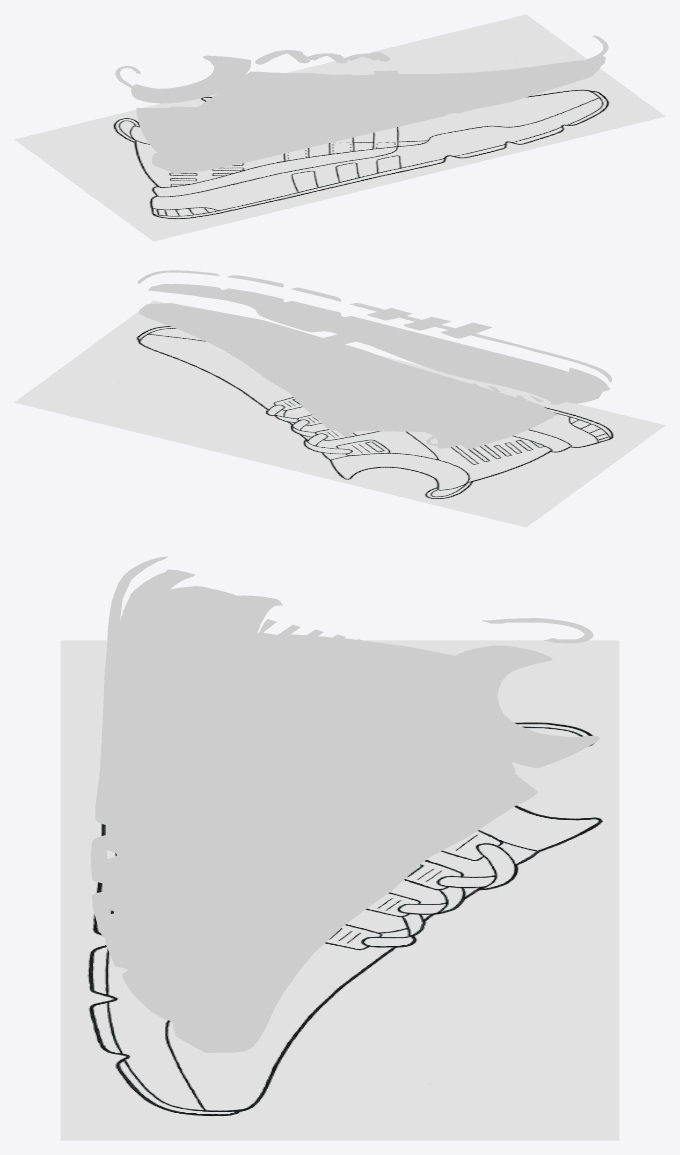
The model's file is Adidas eqt div.FBX.
The picture shows the model from 3 angles, top to bottom: view 1: azimuth 30°, elevation 25°; view 2: azimuth 150°, elevation 25°; view 3: azimuth 270°, elevation 25°; orthographic projection. The views are drawn at different scales.
Parts seen in each view (by area): view 1: Plane001, Line016, Line024, Line010, Line025, Line014, Line023, Line007, Line030, Line026, Line013, Line011 (+3 smaller); view 2: Plane001, Line024, Line016, Line010, Line014, Line025, Line023, Line007, Line011, Line030, Line012, Line013 (+3 smaller); view 3: Plane001, Line024, Line016, Line010, Line014, Line025, Line023, Line011, Line007, Line030, Line012, Line013 (+7 smaller).
Part boxes in pixels (bbox=[...]): Plane001: bbox=[14, 14, 665, 241]; Line016: bbox=[152, 55, 605, 173]; Line024: bbox=[198, 60, 600, 114]; Line010: bbox=[136, 107, 325, 152]; Line025: bbox=[131, 55, 251, 103]; Line014: bbox=[154, 101, 378, 149]; Line023: bbox=[155, 35, 608, 162]; Line007: bbox=[170, 106, 244, 139]; Line030: bbox=[255, 50, 390, 64]; Line026: bbox=[235, 73, 276, 90]; Line013: bbox=[373, 70, 398, 97]; Line011: bbox=[285, 84, 312, 114]; Plane001: bbox=[14, 300, 665, 527]; Line024: bbox=[138, 303, 553, 431]; Line016: bbox=[148, 283, 602, 403]; Line010: bbox=[331, 345, 557, 449]; Line014: bbox=[357, 335, 570, 404]; Line025: bbox=[330, 411, 468, 448]; Line023: bbox=[137, 270, 611, 382]; Line007: bbox=[438, 383, 543, 419]; Line011: bbox=[344, 371, 434, 395]; Line030: bbox=[266, 355, 351, 404]; Line012: bbox=[324, 356, 398, 379]; Line013: bbox=[300, 331, 366, 352]; Plane001: bbox=[60, 640, 619, 1140]; Line024: bbox=[166, 706, 538, 1052]; Line016: bbox=[102, 586, 236, 1024]; Line010: bbox=[192, 632, 454, 864]; Line014: bbox=[184, 595, 282, 819]; Line025: bbox=[430, 645, 599, 768]; Line023: bbox=[90, 556, 235, 1003]; Line011: bbox=[250, 739, 410, 796]; Line007: bbox=[259, 619, 411, 705]; Line030: bbox=[362, 745, 515, 848]; Line012: bbox=[231, 776, 367, 823]; Line013: bbox=[205, 791, 327, 834].
Size of the model in its own units: 267 by 34.51 by 126.
